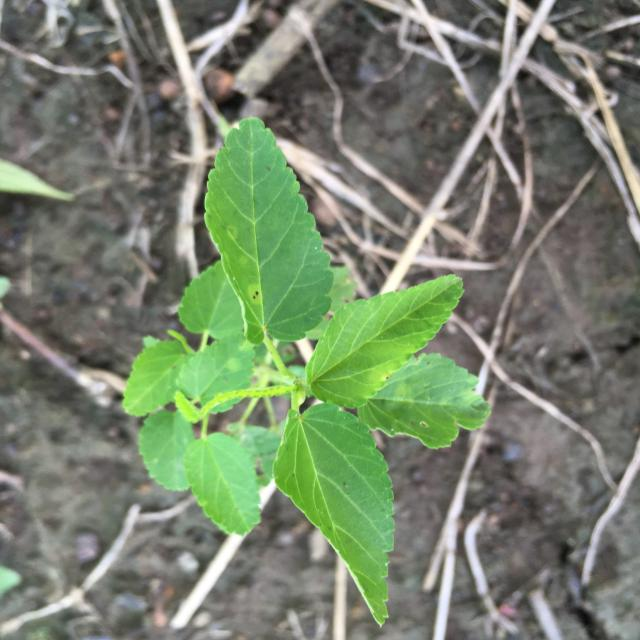PricklySida: (122, 117, 492, 628)
